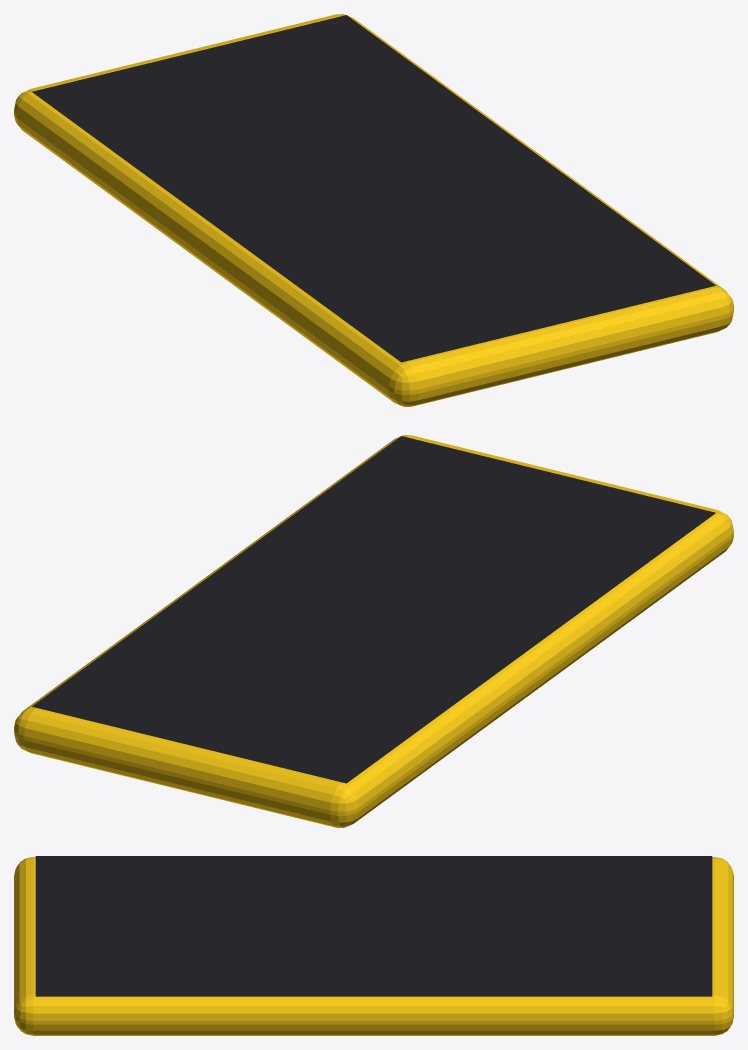
File: samsung-gen-2023-flagship-2023.glb
3 views of the same model, one above another, from view 1: azimuth 30°, elevation 25°; view 2: azimuth 150°, elevation 25°; view 3: azimuth 270°, elevation 25° (orthographic). The views are drawn at different scales.
Visible parts, largest first — view 1: Phone_Screen, Phone_Body; view 2: Phone_Screen, Phone_Body; view 3: Phone_Screen, Phone_Body.
Part boxes in pixels (left/top/right/bottom): Phone_Screen: left=32, top=15, right=715, bottom=362; Phone_Body: left=14, top=14, right=733, bottom=406; Phone_Screen: left=32, top=436, right=715, bottom=783; Phone_Body: left=14, top=435, right=733, bottom=827; Phone_Screen: left=35, top=856, right=712, bottom=996; Phone_Body: left=14, top=857, right=733, bottom=1035.
Size of the model in its own units: 0.0717 by 0.0086 by 0.1427.
